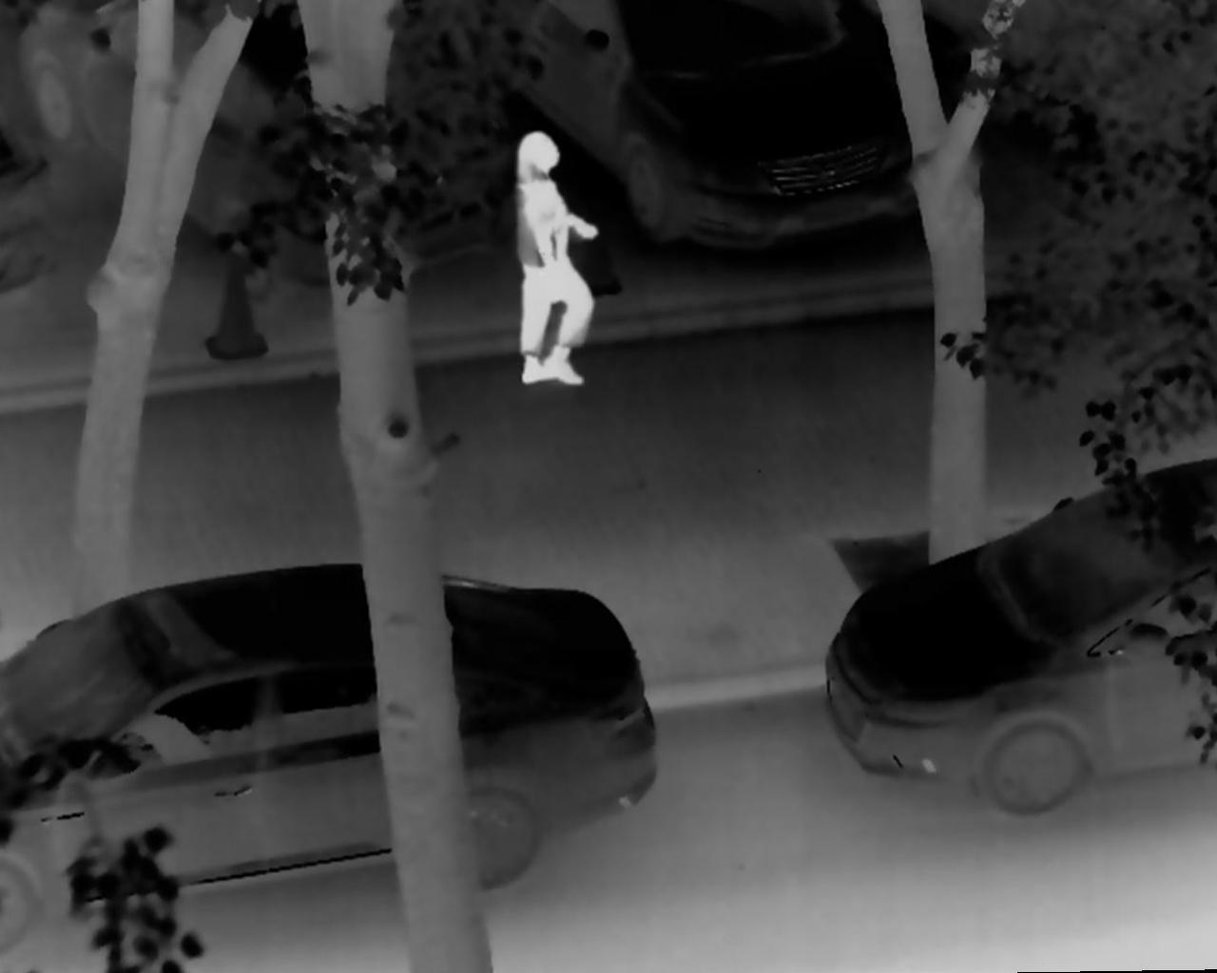person: (495, 126, 602, 390)
